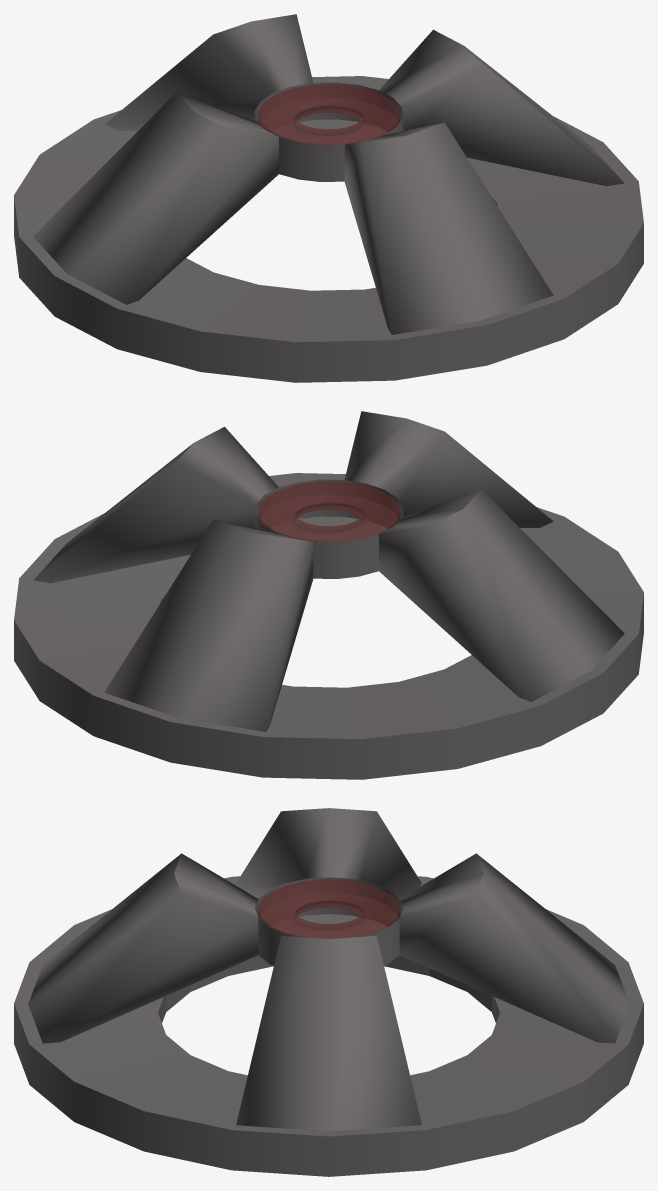
Rendered from FocusLens.fbx.
3 renders of one model, top to bottom at view 1: azimuth 30°, elevation 25°; view 2: azimuth 150°, elevation 25°; view 3: azimuth 270°, elevation 25°, orthographic.
Visible parts, largest first — view 1: FocusLens; view 2: FocusLens; view 3: FocusLens.
Part boxes in pixels (x1,y1,x2,y2): FocusLens: (14,14,643,382); FocusLens: (14,411,643,779); FocusLens: (14,808,643,1176).
Bounding box in the file's own units: 11.4 × 3.4 × 11.4.
